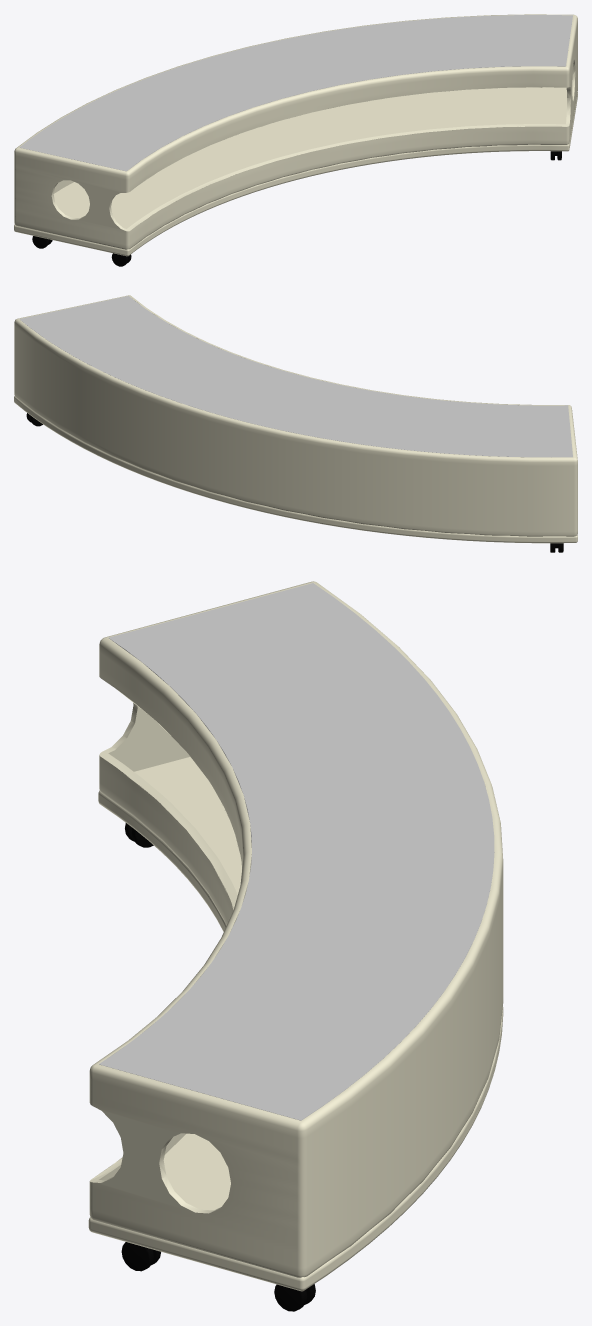
File: LongTable.fbx
The picture shows the model from 3 angles, top to bottom: view 1: azimuth 30°, elevation 25°; view 2: azimuth 150°, elevation 25°; view 3: azimuth 270°, elevation 25°; orthographic projection. The views are drawn at different scales.
Parts seen in each view (by area): view 1: Body, GlassTop; view 2: Body, GlassTop; view 3: GlassTop, Body.
Part boxes in pixels (x1,y1,x2,y2): Body: [14, 14, 577, 256]; GlassTop: [19, 15, 572, 171]; Body: [14, 295, 577, 543]; GlassTop: [19, 296, 572, 457]; GlassTop: [99, 583, 494, 1120]; Body: [88, 581, 503, 1291].
Bounding box in the file's own units: 16.04 × 2.77 × 5.14.
